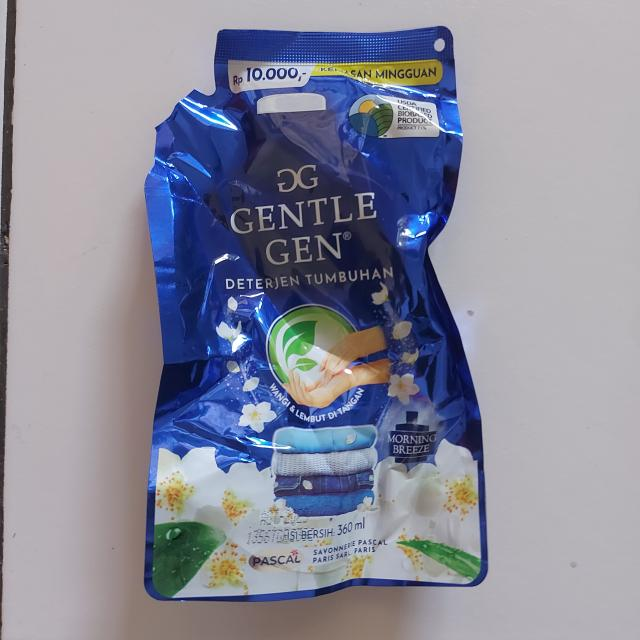Anorganik: (134, 23, 487, 612)
